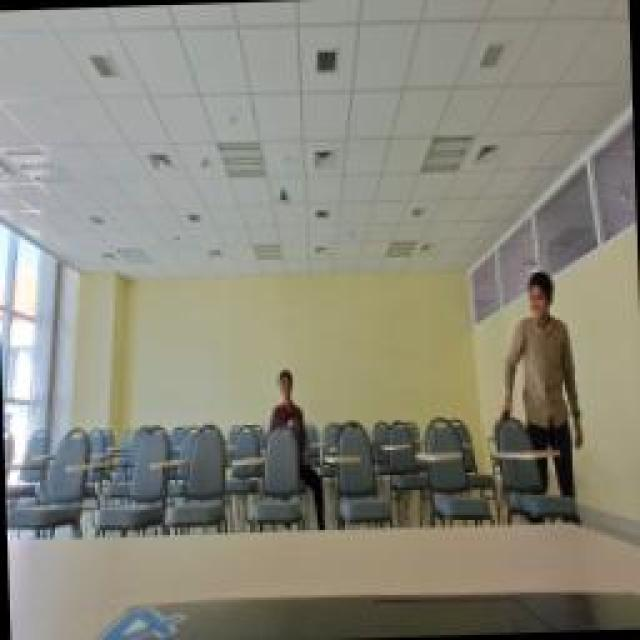study: (268, 370, 310, 465)
